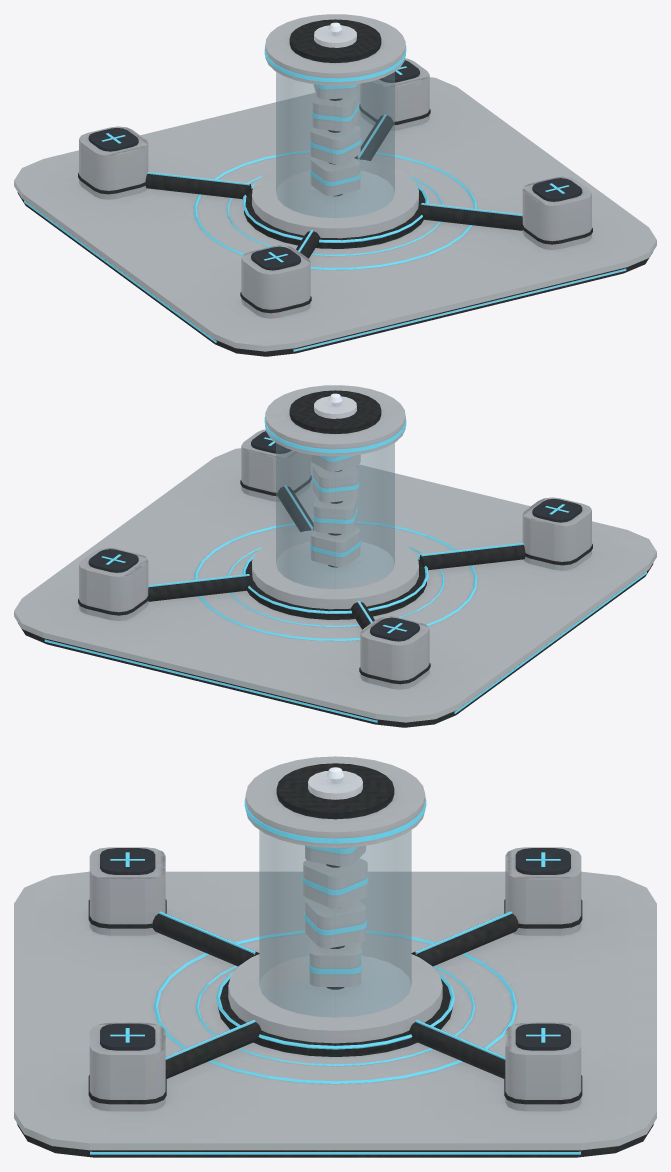
File: enterprise_supply_hub.glb
3 renders of one model, top to bottom at view 1: azimuth 30°, elevation 25°; view 2: azimuth 150°, elevation 25°; view 3: azimuth 270°, elevation 25°, orthographic. The views are drawn at different scales.
Parts seen in each view (by area): view 1: te_enterprise_supply_hub; view 2: te_enterprise_supply_hub; view 3: te_enterprise_supply_hub.
Boxes of the visible parts, x1,y1,x2,y2 form: te_enterprise_supply_hub: (14,14,656,356); te_enterprise_supply_hub: (14,385,656,727); te_enterprise_supply_hub: (14,756,656,1157).
Bounding box in the file's own units: 1.86 × 0.816 × 1.86.
2 materials, 1 textured.
